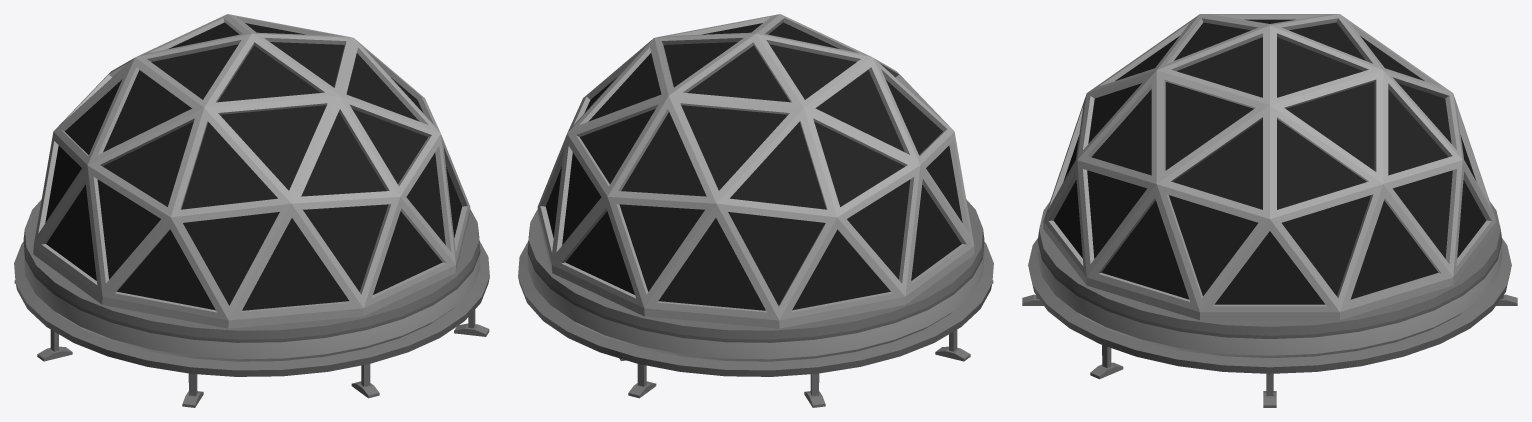
Rendered from Geodesic Dome.glb.
3 views of the same model, side by side, from view 1: azimuth 30°, elevation 25°; view 2: azimuth 150°, elevation 25°; view 3: azimuth 270°, elevation 25° (orthographic).
Visible parts, largest first — view 1: GeodesicDome; view 2: GeodesicDome; view 3: GeodesicDome.
Boxes of the visible parts, <box> form: GeodesicDome: <box>14,14,489,407</box>; GeodesicDome: <box>518,14,993,407</box>; GeodesicDome: <box>1022,14,1517,407</box>.
Size of the model in its own units: 8.53 by 5.28 by 8.53.
Materials: 1 (1 with a texture image).
